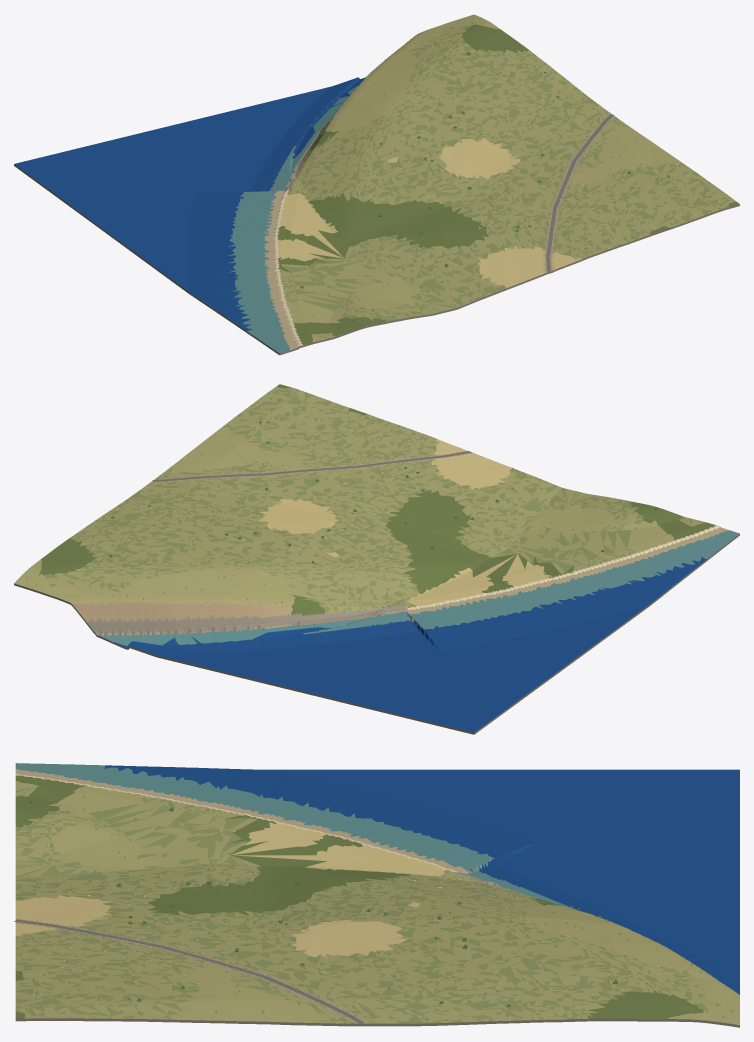
Rendered from parca_-3_-2-yakin.glb.
3 renders of one model, top to bottom at view 1: azimuth 30°, elevation 25°; view 2: azimuth 150°, elevation 25°; view 3: azimuth 270°, elevation 25°, orthographic. The views are drawn at different scales.
Parts seen in each view (by area): view 1: parca_-3_-2_arazi, parca_-3_-2_yollar, parca_-3_-2_bitkiler; view 2: parca_-3_-2_arazi, parca_-3_-2_yollar; view 3: parca_-3_-2_arazi, parca_-3_-2_yollar, parca_-3_-2_bitkiler.
Part boxes in pixels (box(x1,y1,x2,y2)): parca_-3_-2_arazi: box(14, 14, 739, 355); parca_-3_-2_yollar: box(546, 114, 614, 271); parca_-3_-2_bitkiler: box(288, 17, 723, 328); parca_-3_-2_arazi: box(14, 384, 739, 734); parca_-3_-2_yollar: box(152, 451, 471, 481); parca_-3_-2_arazi: box(15, 763, 739, 1027); parca_-3_-2_yollar: box(14, 919, 364, 1023); parca_-3_-2_bitkiler: box(18, 783, 732, 1022).
Size of the model in its own units: 1002 by 98.22 by 1002.
